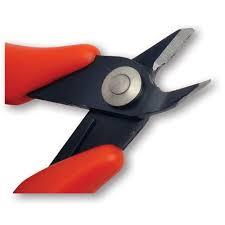pliers: (4, 25, 211, 193)
